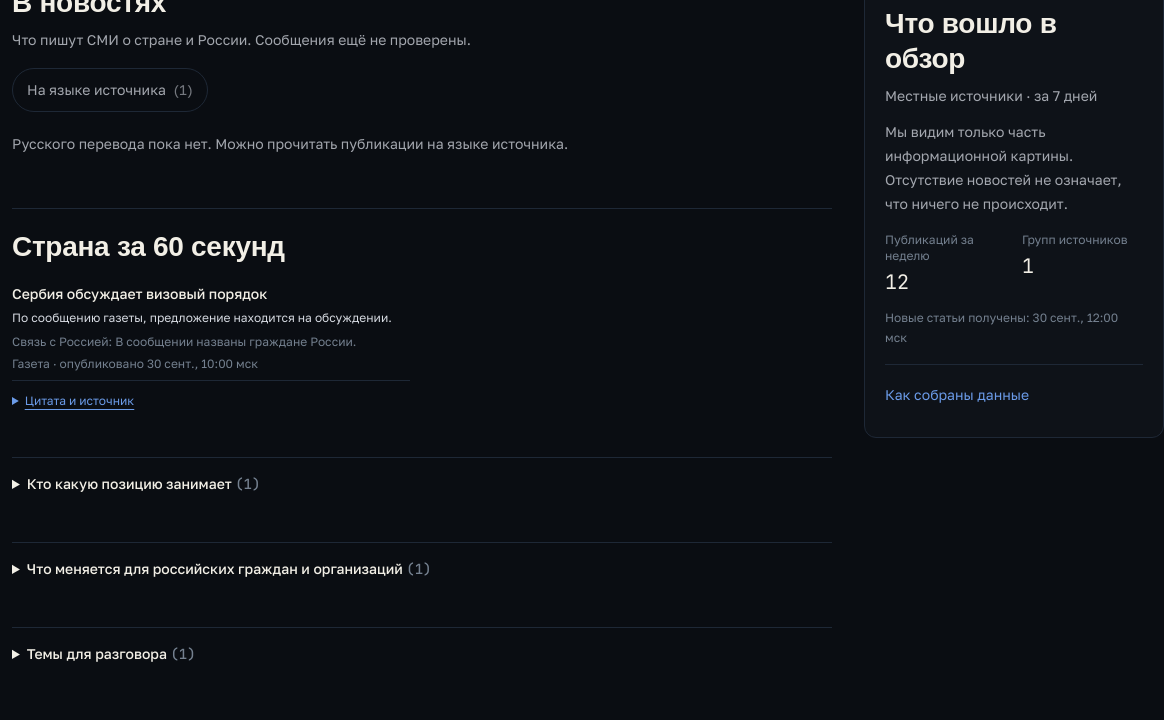
Test: DecisionWorkspace › puts the map first and retains source dates, uncertainty and detail sections
The width and height of the screenshot is (1164, 720).
(page scrolled)
Expected: the heading "Страна за 60 секунд" is shown, top-left (12, 231), bottom-right (285, 262)
Expected: the heading "Что вошло в обзор" is shown, top-left (885, 8), bottom-right (1057, 74)
What coordinates should you click on to do the following:
click the heading "Как собраны данные"
I would click on:
 (957, 394)
Its box is top-left (885, 386), bottom-right (1029, 403).
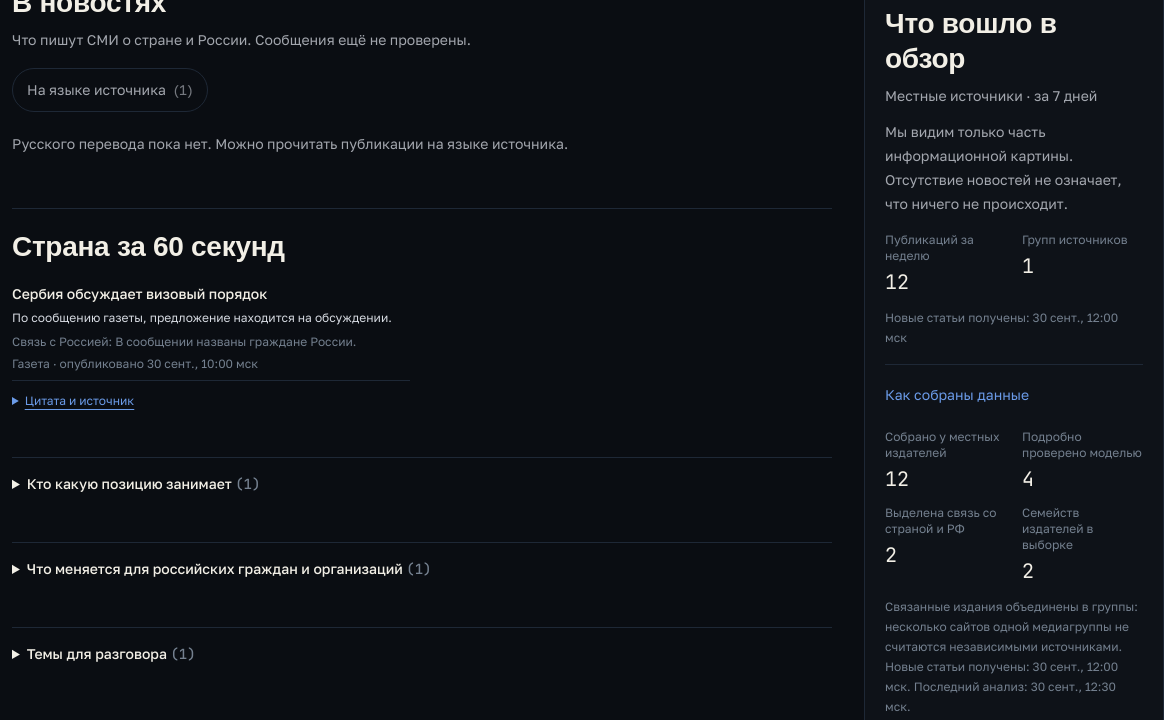
Expected: the text "Цитата и источник" is shown, top-left (12, 380), bottom-right (410, 413)
What coordinates should you click on to do the following:
click the heading "Цитата и источник"
I would click on:
 (73, 401)
Its box is top-left (12, 389), bottom-right (134, 413).
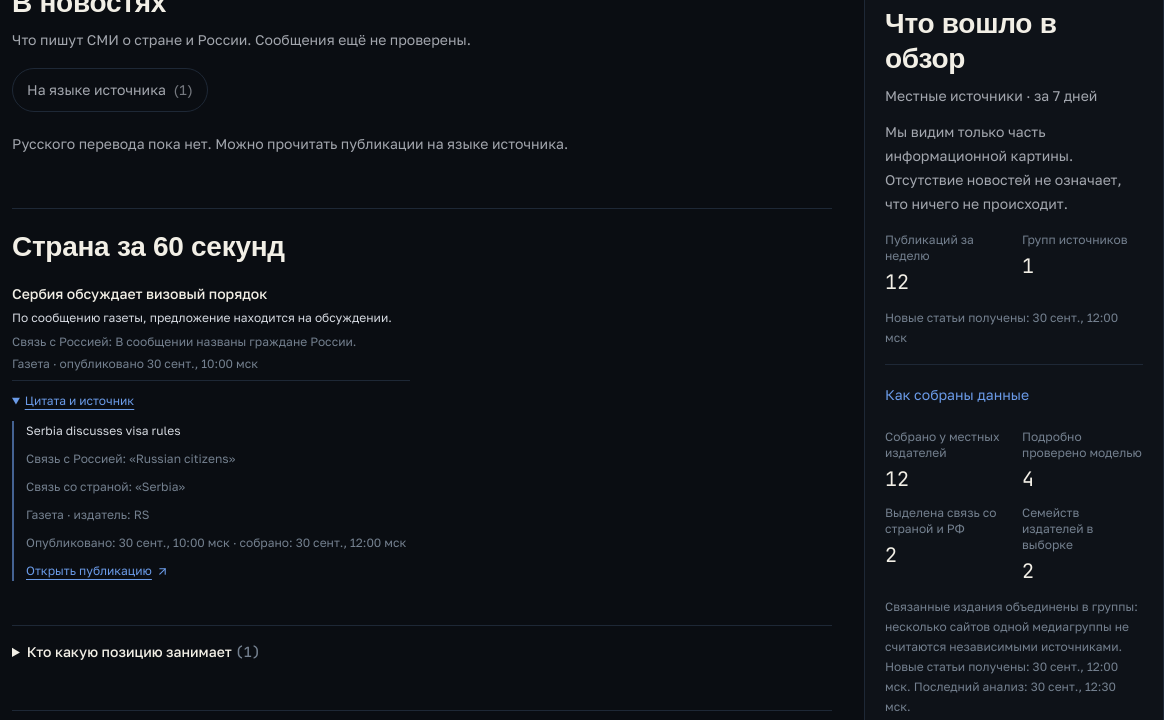
Result: the text "Опубликовано:" shows "собрано:" at top-left (230, 535), bottom-right (296, 550)
Result: the text "Опубликовано:" shows "мск" at top-left (119, 535), bottom-right (230, 550)
